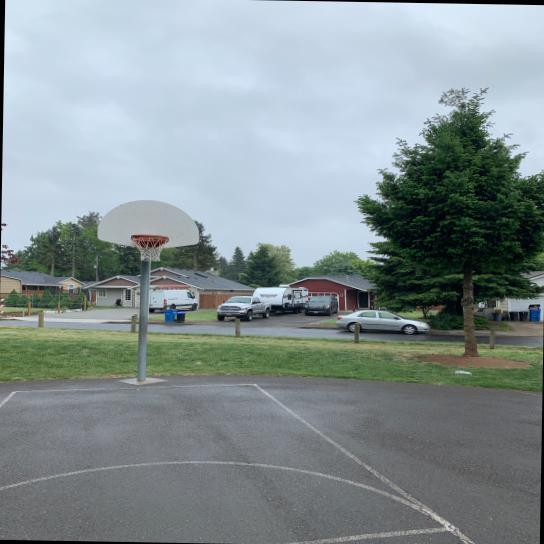basketball-hoop: (129, 234, 170, 262)
